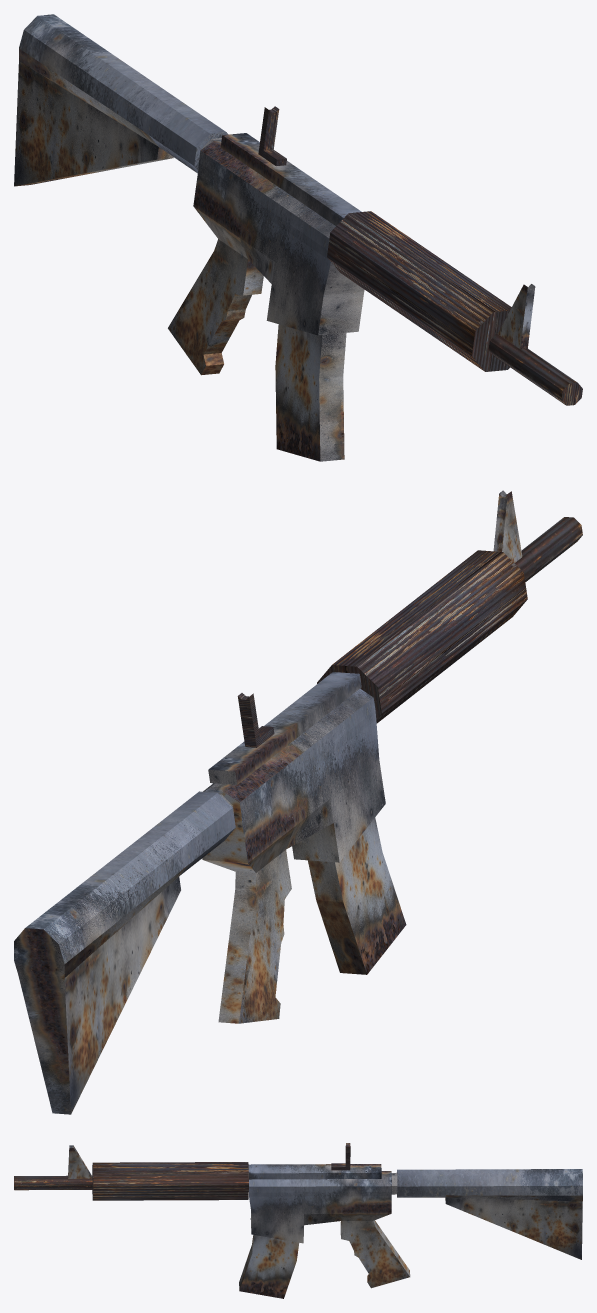
The picture shows the model from 3 angles, top to bottom: view 1: azimuth 30°, elevation 25°; view 2: azimuth 150°, elevation 25°; view 3: azimuth 270°, elevation 25°; orthographic projection. The views are drawn at different scales.
Parts seen in each view (by area): view 1: Cylinder.002, Cylinder.003, Cylinder.001, Cube, Cylinder, Cube.001, Cube.002; view 2: Cylinder.002, Cylinder.003, Cylinder.001, Cube, Cylinder, Cube.001, Cube.002; view 3: Cylinder.002, Cylinder.003, Cylinder.001, Cube, Cylinder, Cube.001, Cube.002.
Boxes of the visible parts, x1,y1,x2,y2 form: Cylinder.002: [168, 140, 364, 461]; Cylinder.003: [14, 14, 228, 186]; Cylinder.001: [327, 211, 511, 371]; Cube: [220, 133, 361, 225]; Cylinder: [488, 333, 582, 405]; Cube.001: [498, 284, 535, 349]; Cube.002: [258, 106, 286, 166]; Cylinder.002: [202, 688, 406, 1023]; Cylinder.003: [14, 791, 235, 1114]; Cylinder.001: [317, 550, 527, 723]; Cube: [208, 672, 361, 784]; Cylinder: [515, 517, 582, 581]; Cube.001: [493, 490, 522, 562]; Cube.002: [237, 693, 274, 747]; Cylinder.002: [239, 1171, 410, 1298]; Cylinder.003: [391, 1169, 582, 1259]; Cylinder.001: [92, 1162, 248, 1200]; Cube: [248, 1164, 381, 1179]; Cylinder: [14, 1175, 92, 1190]; Cube.001: [68, 1145, 92, 1178]; Cube.002: [331, 1143, 350, 1170].
Size of the model in its own units: 9.01 by 30.44 by 96.22.
Materials: 2 (2 with a texture image).
